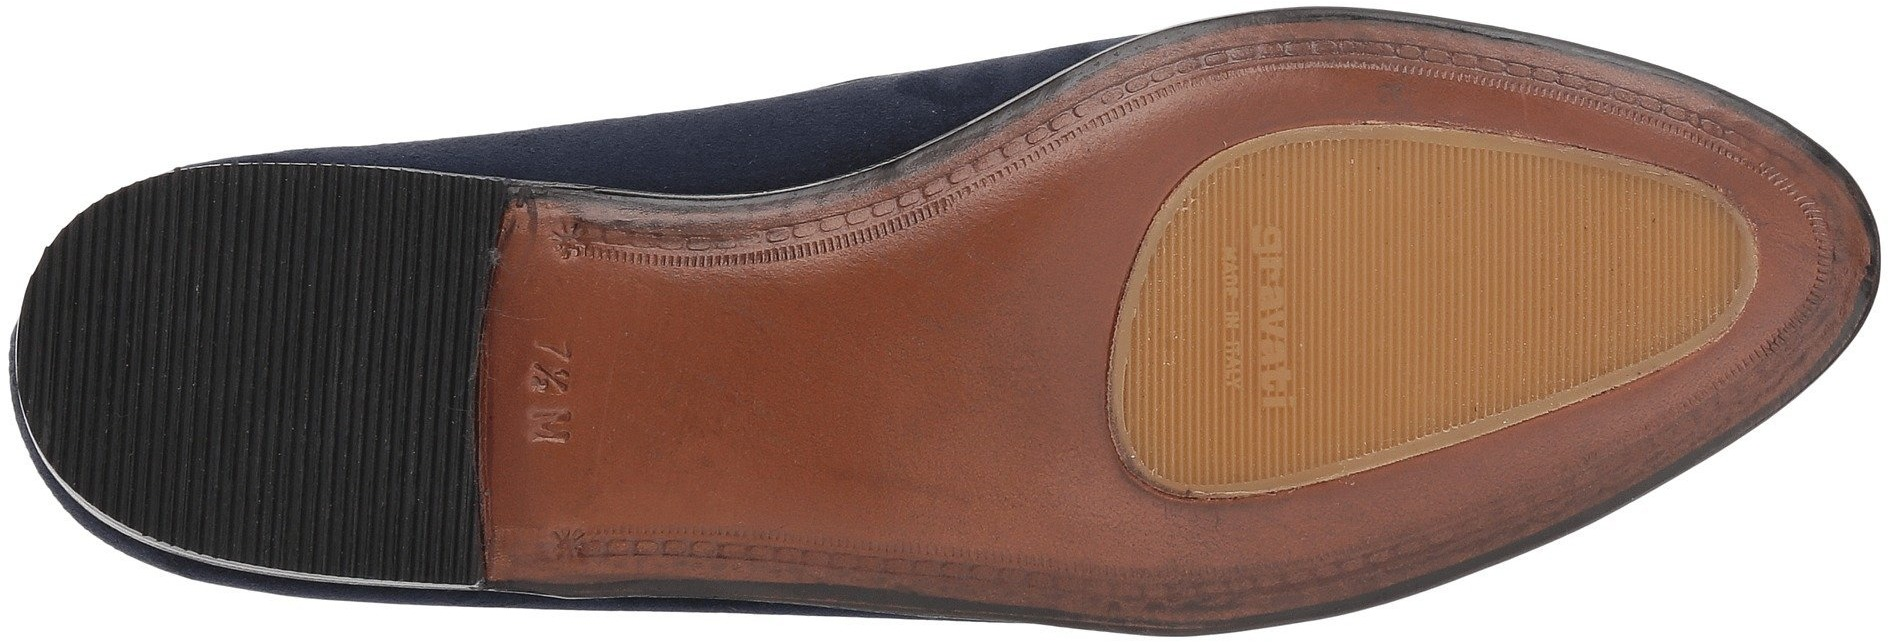other: (588, 285, 1086, 534), (59, 232, 474, 489), (1294, 157, 1548, 404), (1554, 185, 1707, 343)
text: (1206, 218, 1297, 426), (519, 320, 584, 469)
